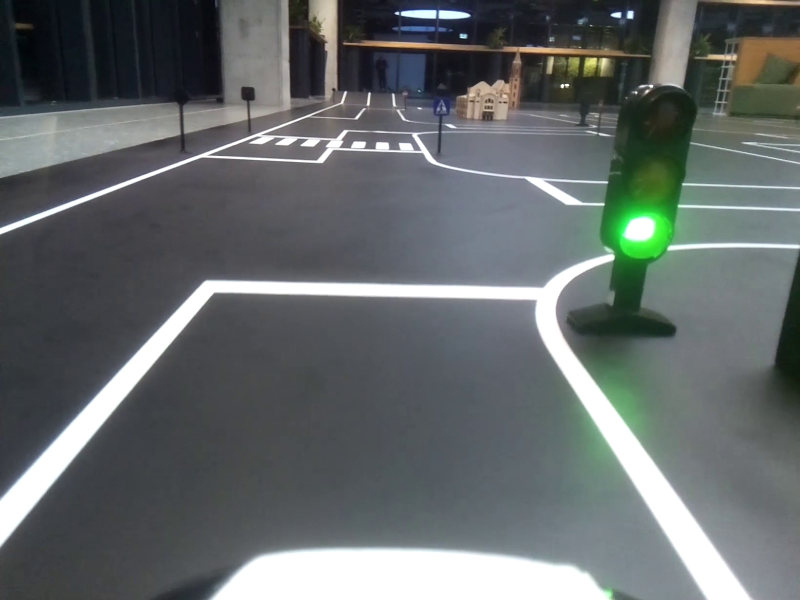traffic_green: (613, 84, 673, 263)
